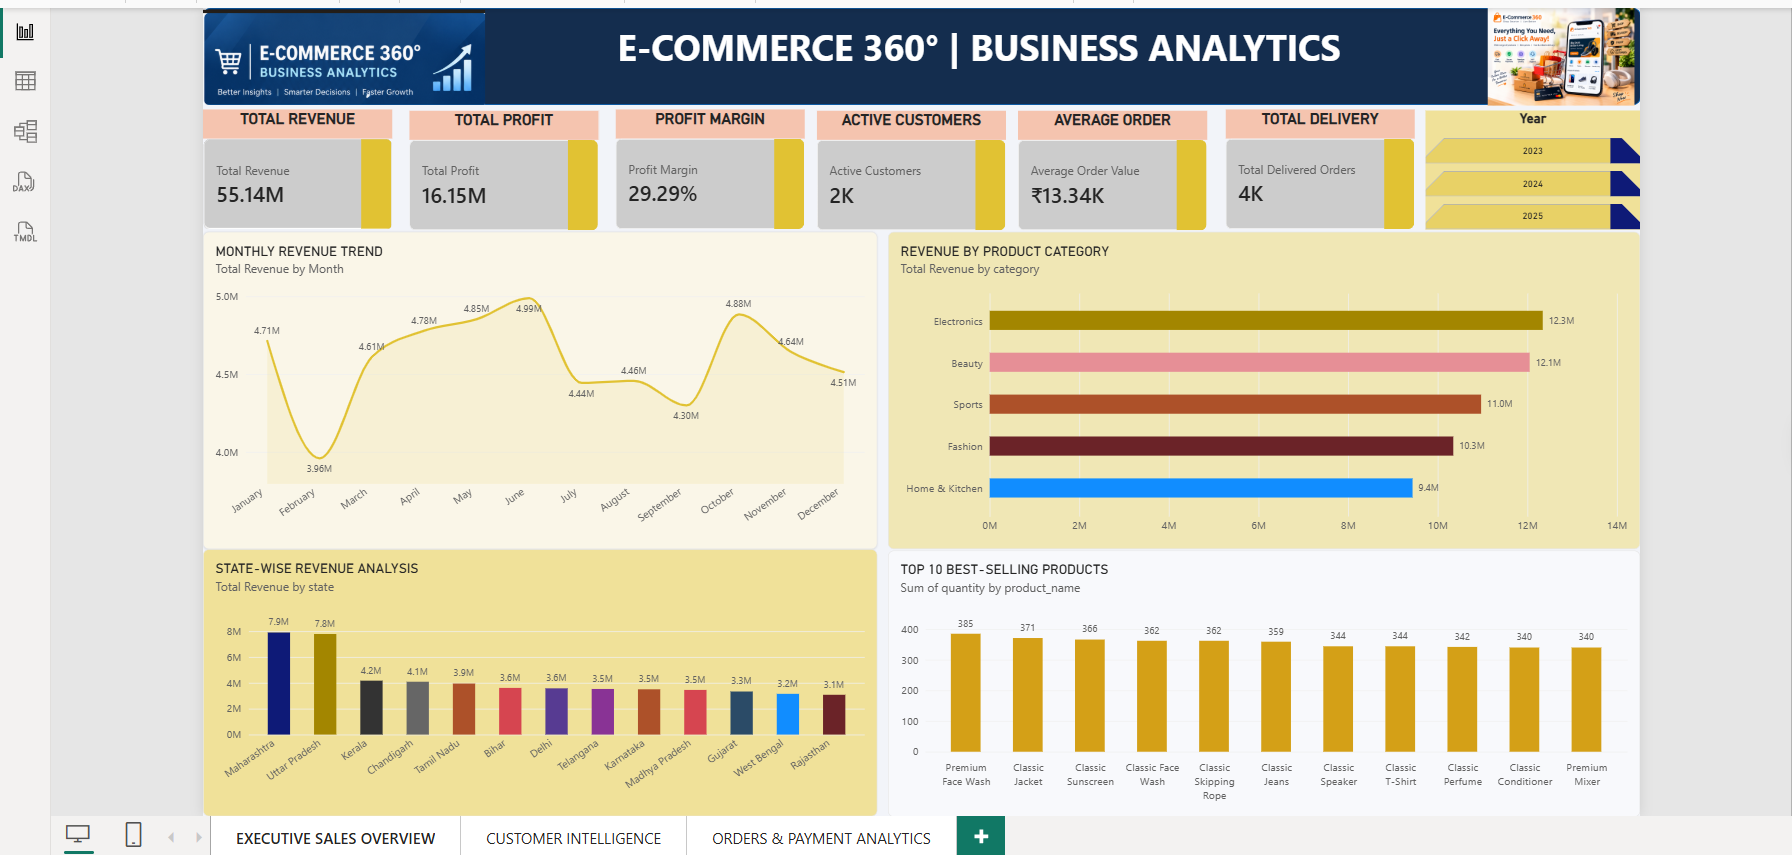

What the dashboard file says about the page in this screenshot:
{"tool":"powerbi","page":{"name":"EXECUTIVE SALES OVERVIEW","canvas":[1920,1080],"ordinal":0},"visuals":[{"type":"shape","box":[0,0,1920.4,129.6],"z":0},{"type":"textbox","box":[528.7,18.2,1014.9,127.6],"z":1000},{"type":"image","box":[0,0,377.2,130.5],"z":2000},{"type":"cardVisual","title":"TOTAL REVENUE","fields":{"Data":["KIP_Measures.Total Revenue"]},"box":[0,134.6,252.8,161.1],"z":3000},{"type":"cardVisual","title":"TOTAL PROFIT","fields":{"Data":["KIP_Measures.Total Profit"]},"box":[275.2,136.6,252.8,161.1],"z":4000},{"type":"cardVisual","title":"PROFIT MARGIN","fields":{"Data":["KIP_Measures.Profit Margin"]},"box":[550.4,134.6,252.8,161.1],"z":5000},{"type":"cardVisual","title":"ACTIVE CUSTOMERS","fields":{"Data":["KIP_Measures.Active Customers"]},"box":[819.5,136.6,252.8,161.1],"z":6000},{"type":"cardVisual","title":"AVERAGE ORDER","fields":{"Data":["KIP_Measures.Average Order Value"]},"box":[1088.6,136.6,252.8,161.1],"z":7000},{"type":"cardVisual","title":"TOTAL DELIVERY","fields":{"Data":["KIP_Measures.Total Delivered Orders"]},"box":[1365.9,134.6,252.8,161.1],"z":8000},{"type":"image","box":[1708.4,0,212,130.5],"z":9000},{"type":"lineChart","title":"MONTHLY REVENUE TREND","fields":{"Category":["Orders.order_date.Variation.Date Hierarchy.Month"],"Y":["KIP_Measures.Total Revenue"]},"box":[0,299.7,901.1,424],"z":10000},{"type":"advancedSlicerVisual","fields":{"Values":["Orders.Year"]},"box":[1633,136.6,287.5,159],"z":11000},{"type":"clusteredBarChart","title":"REVENUE BY PRODUCT CATEGORY","fields":{"Category":["Products.category"],"Y":["KIP_Measures.Total Revenue"]},"box":[915.4,299.7,1005.1,424],"z":12000},{"type":"clusteredColumnChart","title":"STATE-WISE REVENUE ANALYSIS","fields":{"Category":["Customers.state"],"Y":["KIP_Measures.Total Revenue"]},"box":[0,723.7,901.1,356.8],"z":13000},{"type":"columnChart","title":"TOP 10 BEST-SELLING PRODUCTS","fields":{"Category":["Products.product_name"],"Y":["Sum(Order_Details.quantity)"]},"box":[915,724,1005,356],"z":14000}]}

Visuals, with their boxes on the page's 1920x1080 design canvas (x1, y1, x2, y2). These are canvas units, not pixel positions in the 1792x855 screenshot, which may show the page scaled, cropped or inside an application window:
shape: crop(0, 0, 1920, 130)
textbox: crop(529, 18, 1544, 146)
image: crop(0, 0, 377, 130)
"TOTAL REVENUE" cardVisual: crop(0, 135, 253, 296)
"TOTAL PROFIT" cardVisual: crop(275, 137, 528, 298)
"PROFIT MARGIN" cardVisual: crop(550, 135, 803, 296)
"ACTIVE CUSTOMERS" cardVisual: crop(820, 137, 1072, 298)
"AVERAGE ORDER" cardVisual: crop(1089, 137, 1341, 298)
"TOTAL DELIVERY" cardVisual: crop(1366, 135, 1619, 296)
image: crop(1708, 0, 1920, 130)
"MONTHLY REVENUE TREND" lineChart: crop(0, 300, 901, 724)
advancedSlicerVisual - Orders.Year: crop(1633, 137, 1920, 296)
"REVENUE BY PRODUCT CATEGORY" clusteredBarChart: crop(915, 300, 1920, 724)
"STATE-WISE REVENUE ANALYSIS" clusteredColumnChart: crop(0, 724, 901, 1080)
"TOP 10 BEST-SELLING PRODUCTS" columnChart: crop(915, 724, 1920, 1080)
